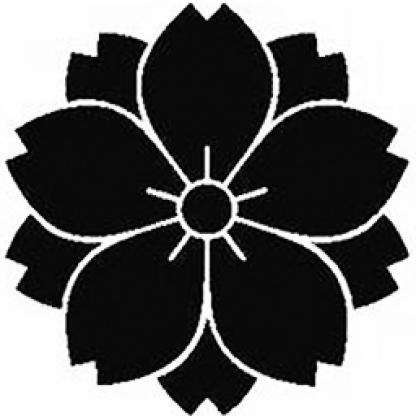kamon: (1, 0, 412, 415)
